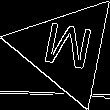M_S: (37, 19, 95, 78)
